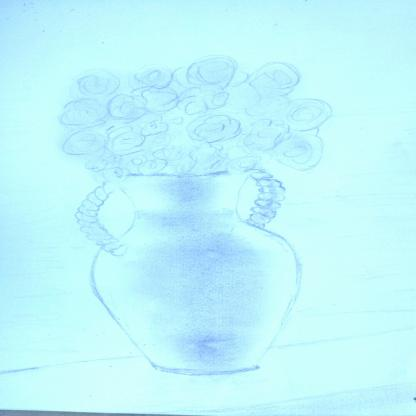vase: (72, 168, 304, 372)
